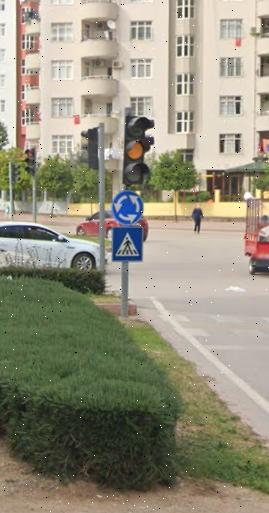crossroads: (113, 190, 143, 224)
yellowlight: (123, 113, 150, 190)
